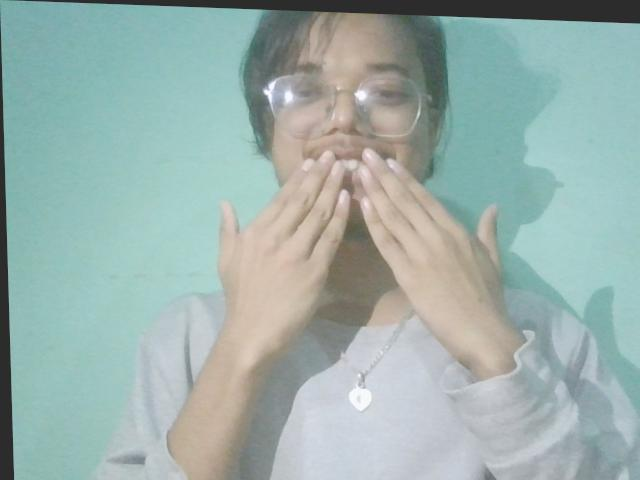Thank You: (162, 98, 559, 444)
